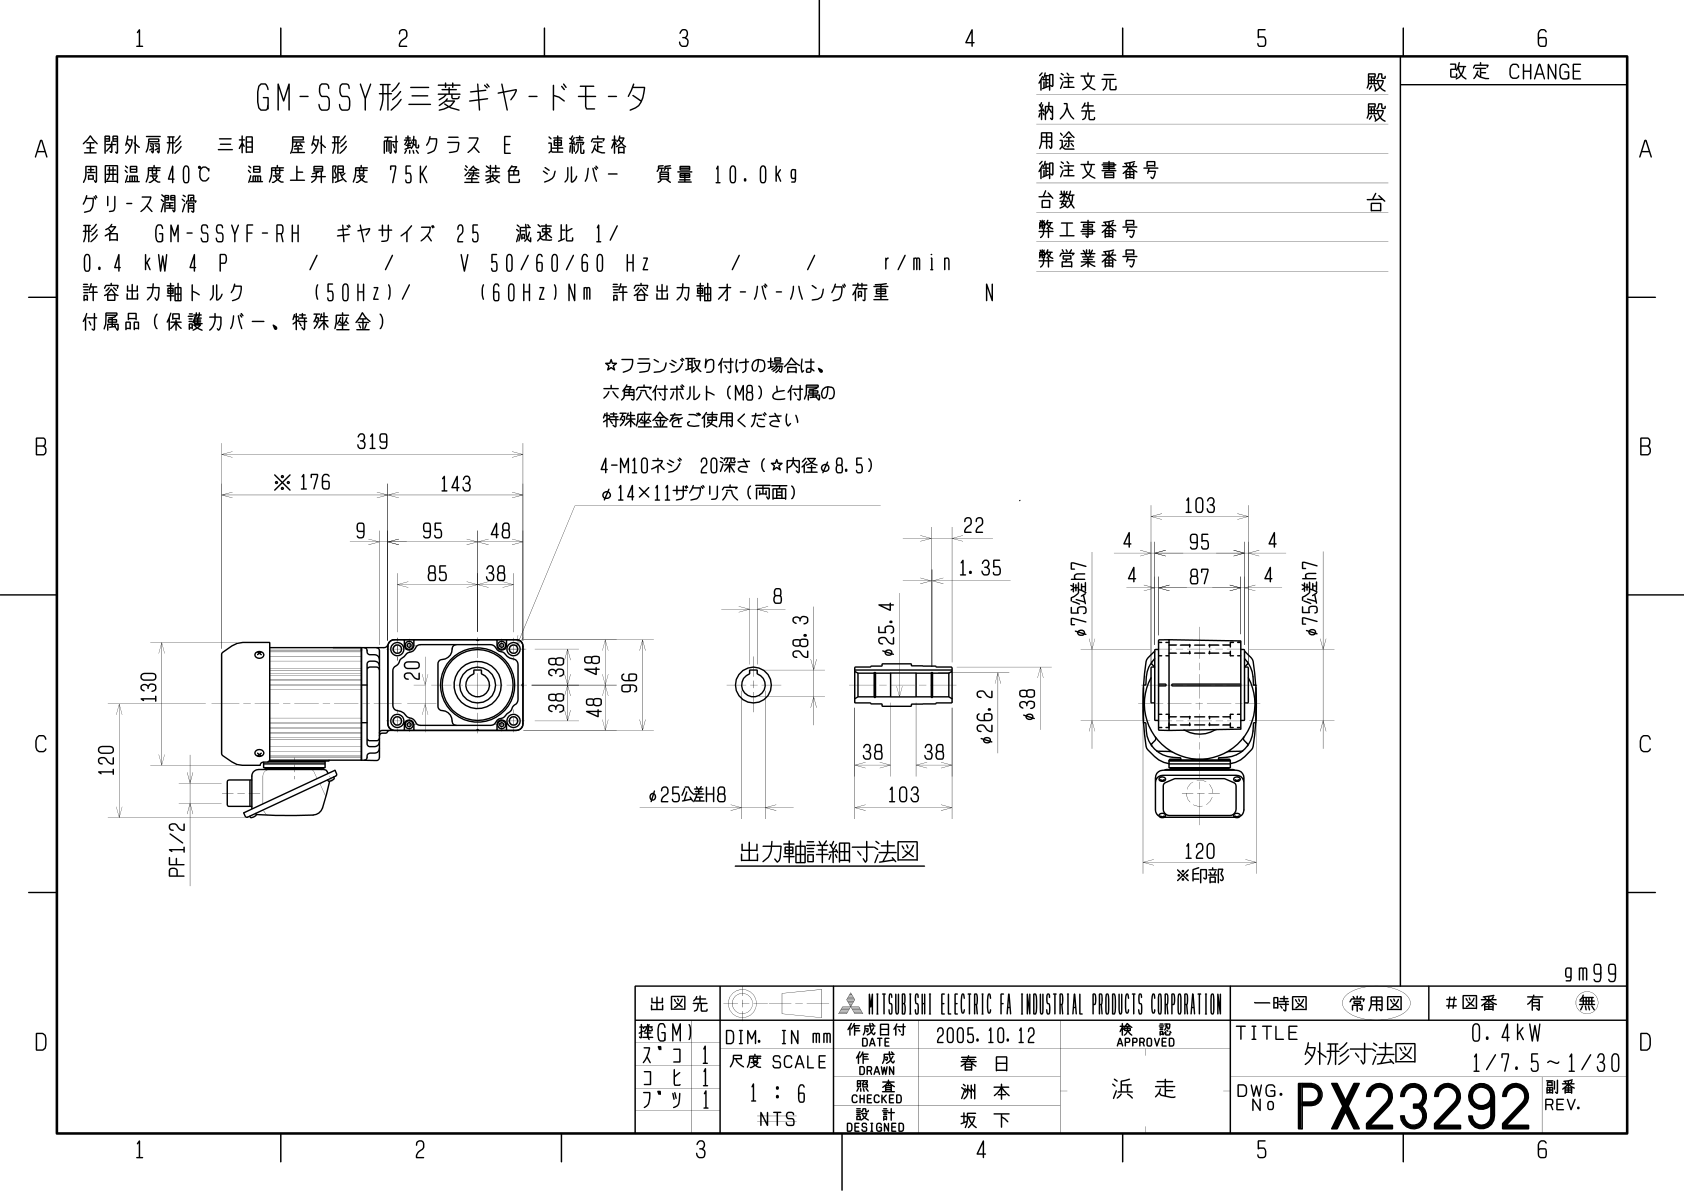GM_SSY_屋外_三相: (6, 15, 1684, 1191)
